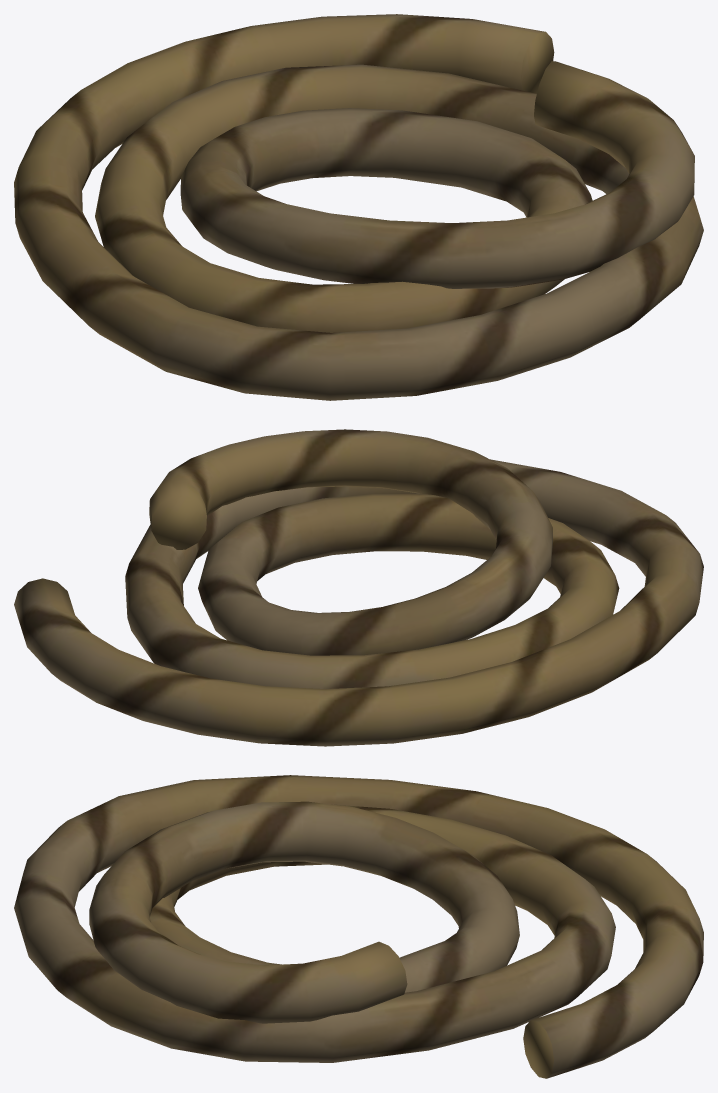
The model's file is Rope_1.gltf.
The picture shows the model from 3 angles, top to bottom: view 1: azimuth 30°, elevation 25°; view 2: azimuth 150°, elevation 25°; view 3: azimuth 270°, elevation 25°; orthographic projection. The views are drawn at different scales.
Visible parts, largest first — view 1: Rope_1; view 2: Rope_1; view 3: Rope_1.
Boxes of the visible parts, x1,y1,x2,y2 form: Rope_1: (14,14,703,400); Rope_1: (14,429,703,746); Rope_1: (14,775,703,1078).
Size of the model in its own units: 0.5574 by 0.0979 by 0.6063.
1 material, 1 textured.
